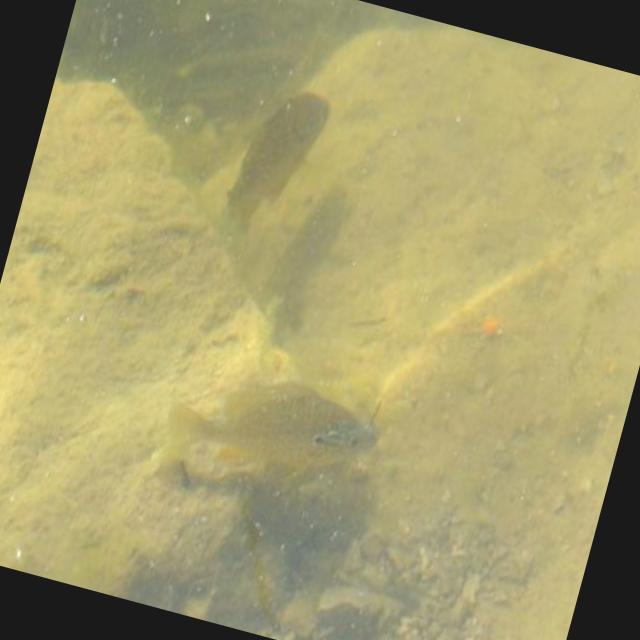Gunes Levregi: (153, 345, 391, 514)
